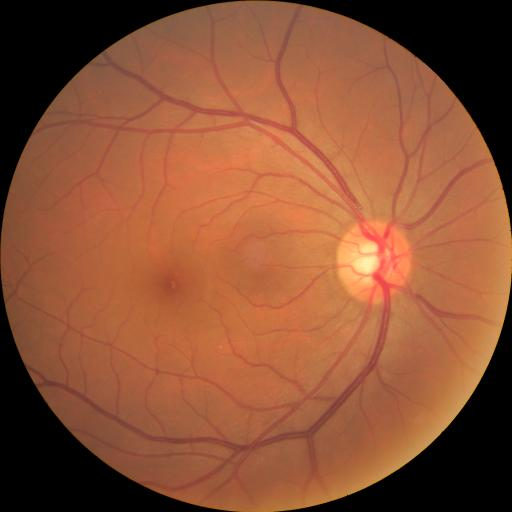Optic Cup: (354, 242, 394, 286)
Optic Disc: (337, 220, 412, 303)
